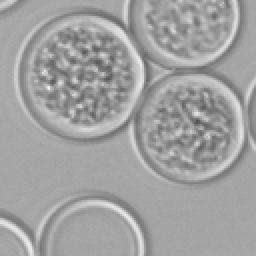picoshell: (14, 12, 142, 138), (134, 72, 242, 180), (130, 0, 238, 66), (36, 194, 146, 254), (0, 214, 34, 254), (246, 84, 254, 148)
